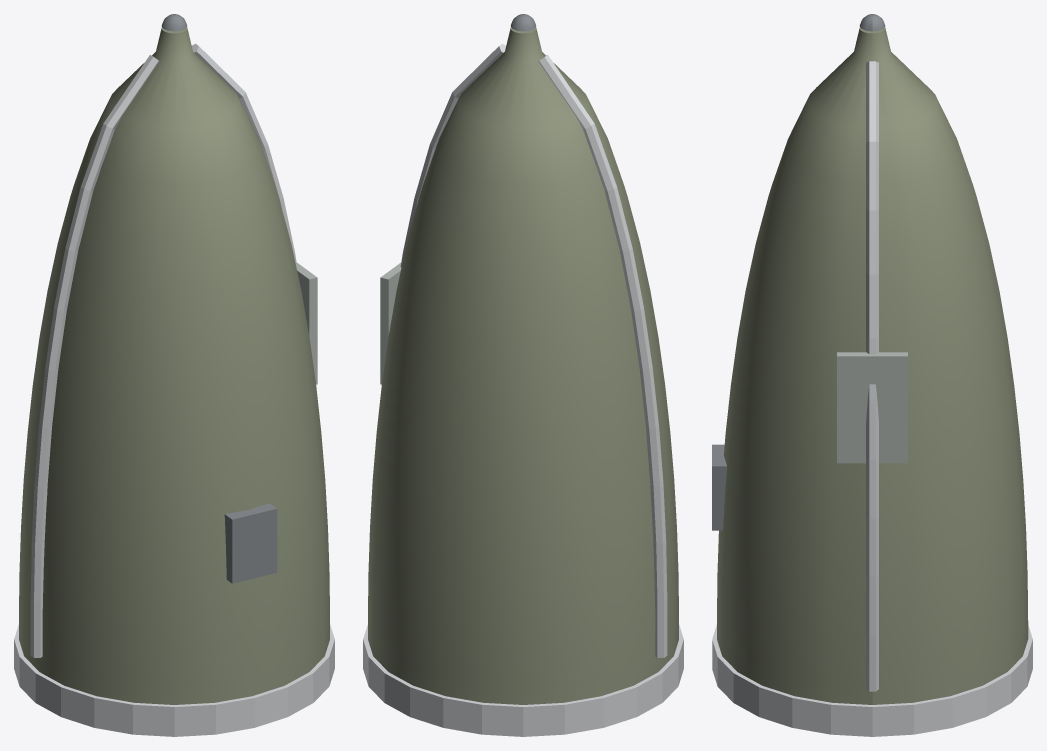
Rendered from cold-war-missile-silo-and-command-bunker-re-entry-vehi-887be03f__15652.glb.
3 renders of one model, left to right at view 1: azimuth 30°, elevation 25°; view 2: azimuth 150°, elevation 25°; view 3: azimuth 270°, elevation 25°, orthographic.
Visible parts, largest first — view 1: re-entry-vehicle-shroud; view 2: re-entry-vehicle-shroud; view 3: re-entry-vehicle-shroud.
Part boxes in pixels (box(x1,y1,x2,y2)): re-entry-vehicle-shroud: box(14, 14, 334, 736); re-entry-vehicle-shroud: box(363, 14, 683, 736); re-entry-vehicle-shroud: box(712, 14, 1032, 736).
Bounding box in the file's own units: 1.39 × 3.06 × 1.36.
